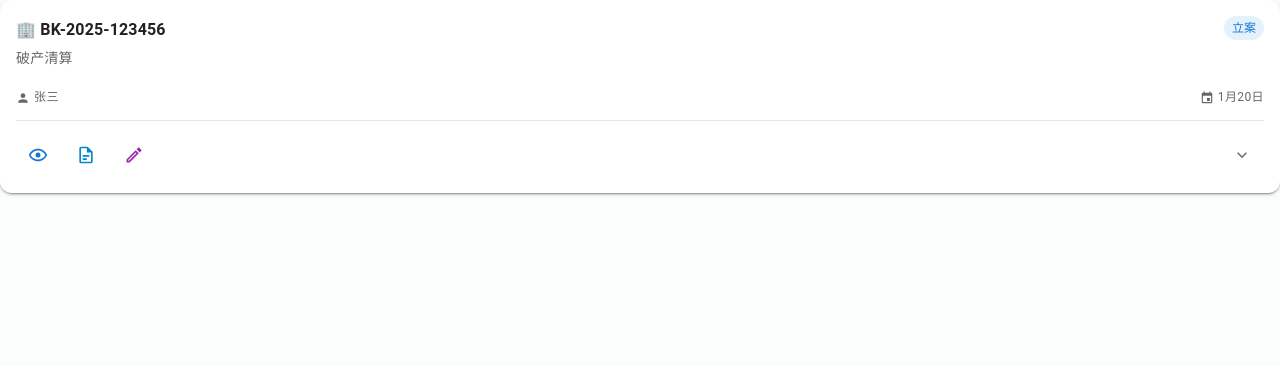
Scenario: CaseMobileCard › 应该正确处理展开/收起功能
Expected: the text "创建人:" is not shown
Click the button named "展开详情": (1242, 155) [1220,133,1264,177]
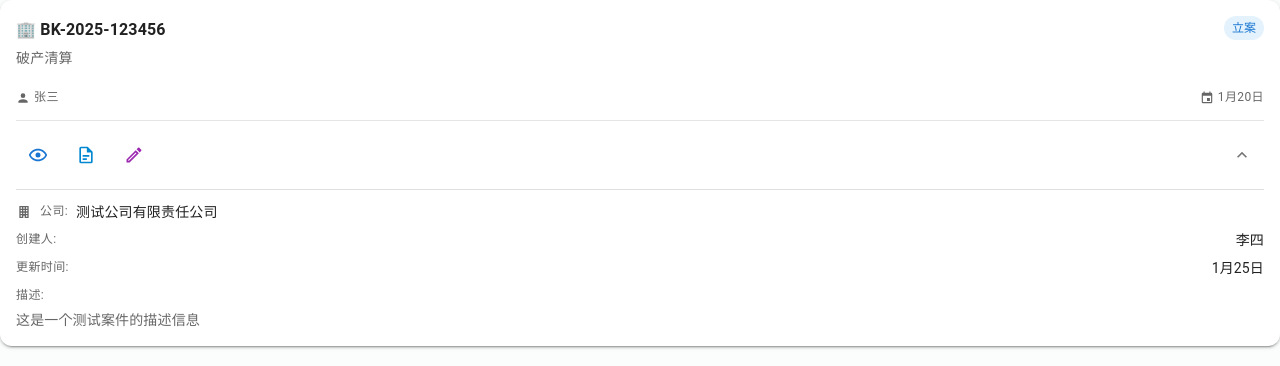
Expected: the text "创建人:" is shown, [16,230,56,250]
Expected: the text "李四" is shown, [1236,230,1264,250]
Expected: the text "测试公司有限责任公司" is shown, [76,204,218,220]
Note: 再次点击应该收起
Click the button named "收起": (1242, 155) [1220,133,1264,177]
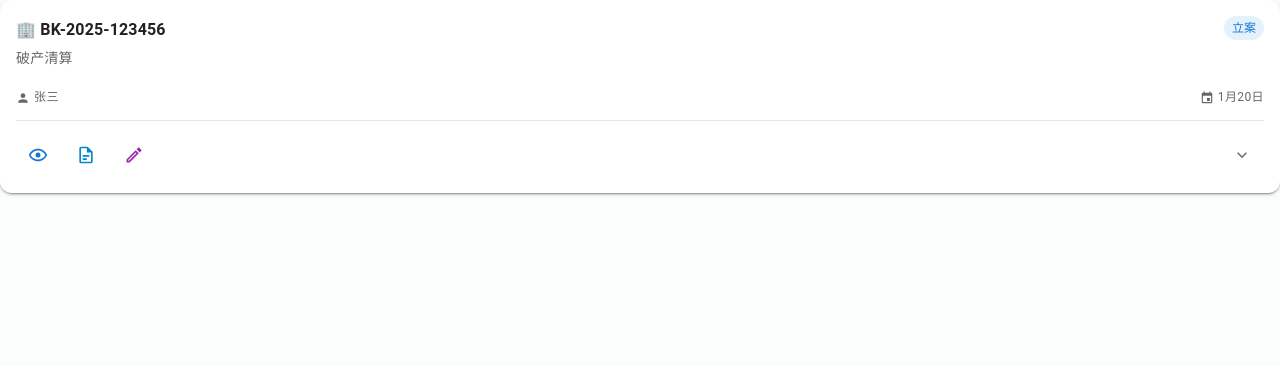
Expected: the text "创建人:" is gone
